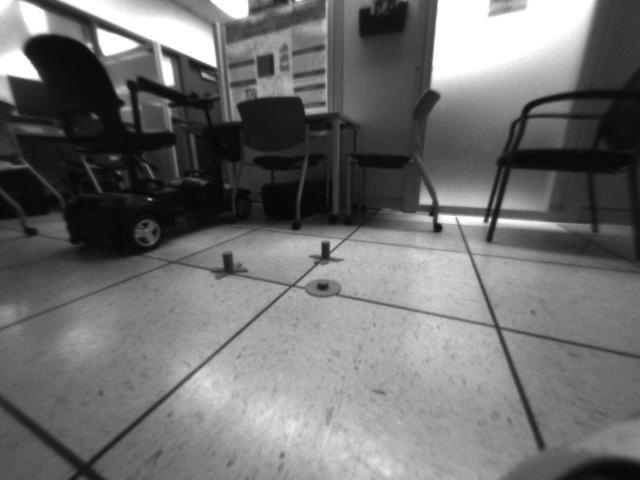X: (213, 250, 244, 281), (309, 239, 342, 264)
